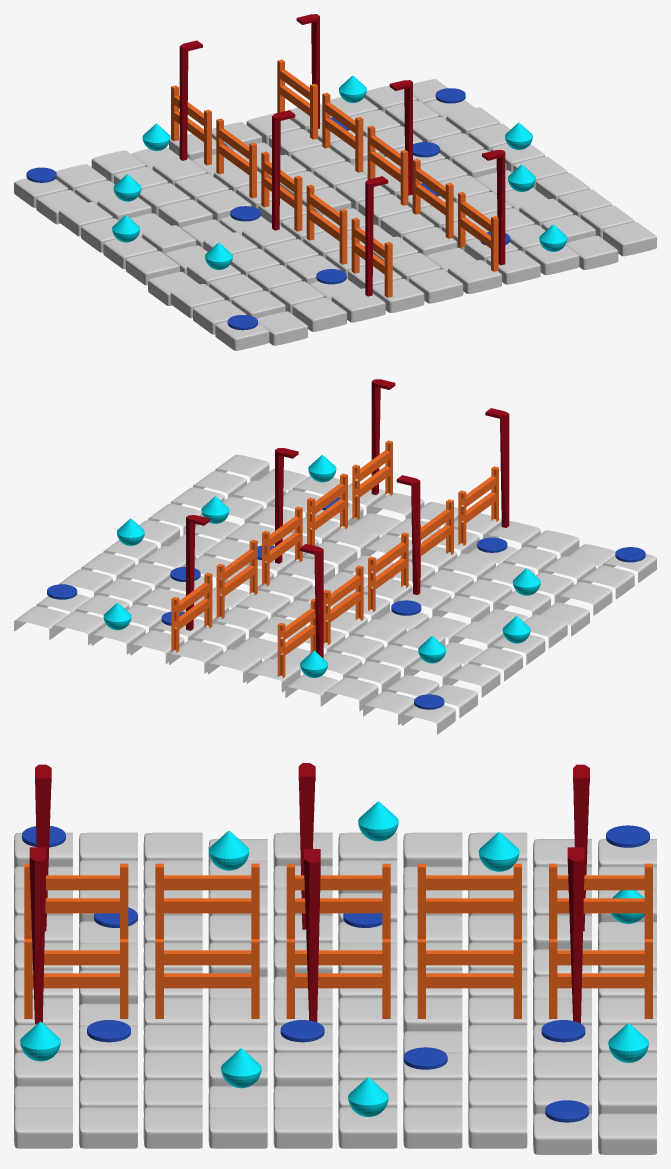
Rendered from gameModel.glb.
3 views of the same model, one above another, from view 1: azimuth 30°, elevation 25°; view 2: azimuth 150°, elevation 25°; view 3: azimuth 270°, elevation 25° (orthographic). The views are drawn at different scales.
Parts seen in each view (by area): view 1: Cube.123, Cube.118, Cube.119, Cube.121, Cube.122, Cube.117, Cube.125, Cube.001, Cube.120, Cube.124, Cube.009, Cube.017 (+104 smaller); view 2: Cube.123, Cube.125, Cube.122, Cube.001, Cube.117, Cube.120, Cube.121, Cube.119, Cube.124, Cube.002, Cube.003, Cube.118 (+94 smaller); view 3: Cube.119, Cube.123, Cube.118, Cube.122, Cube.117, Cube.121, Cube.125, Cube.120, Cube.124, Cube.001, Cube.094, Cube.083 (+120 smaller).
Part boxes in pixels (box(x1,y1,x2,y2)): Cube.123: box(322, 92, 363, 172); Cube.118: box(306, 184, 347, 264); Cube.119: box(412, 158, 453, 238); Cube.121: box(367, 125, 408, 205); Cube.122: box(216, 118, 256, 198); Cube.117: box(458, 192, 498, 271); Cube.125: box(277, 59, 317, 139); Cube.001: box(351, 217, 392, 297); Cube.120: box(261, 151, 302, 231); Cube.124: box(171, 85, 211, 165); Cube.009: box(292, 297, 346, 331); Cube.017: box(603, 222, 656, 256); Cube.123: box(216, 539, 257, 619); Cube.125: box(171, 572, 212, 652); Cube.122: box(323, 565, 363, 645); Cube.001: box(458, 466, 498, 545); Cube.117: box(352, 440, 392, 519); Cube.120: box(368, 532, 408, 612); Cube.121: box(262, 506, 302, 586); Cube.119: box(307, 473, 347, 545); Cube.124: box(277, 598, 315, 678); Cube.002: box(485, 408, 509, 527); Cube.003: box(396, 475, 420, 594); Cube.118: box(420, 499, 453, 577); Cube.119: box(155, 939, 259, 1018); Cube.123: box(417, 939, 521, 1018); Cube.118: box(155, 863, 259, 938); Cube.122: box(417, 863, 521, 938); Cube.117: box(24, 939, 128, 1018); Cube.121: box(286, 939, 390, 1018); Cube.125: box(549, 939, 652, 1018); Cube.120: box(286, 863, 390, 938); Cube.124: box(549, 863, 652, 938); Cube.001: box(24, 863, 128, 938); Cube.094: box(468, 1107, 527, 1148); Cube.083: box(403, 1107, 462, 1148).
Size of the model in its own units: 24 by 7.14 by 21.78.
